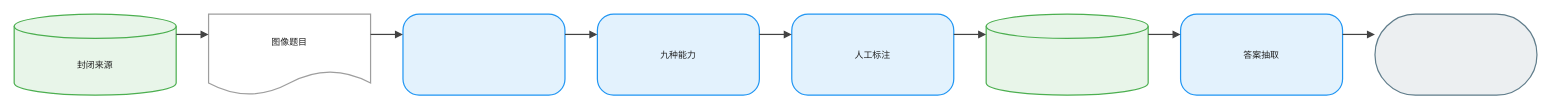
The diagram is 1552 pixels wide and 110 high, and some of its shapes have lost their labels. The shapes that lost their labels are listed below. From the top down, each one's box as (x1, y1, x2, y2) in pixels, then its label:
(402, 13, 565, 95): 五类推理
(985, 13, 1148, 95): JSON存储
(1374, 13, 1537, 95): 能力分数
